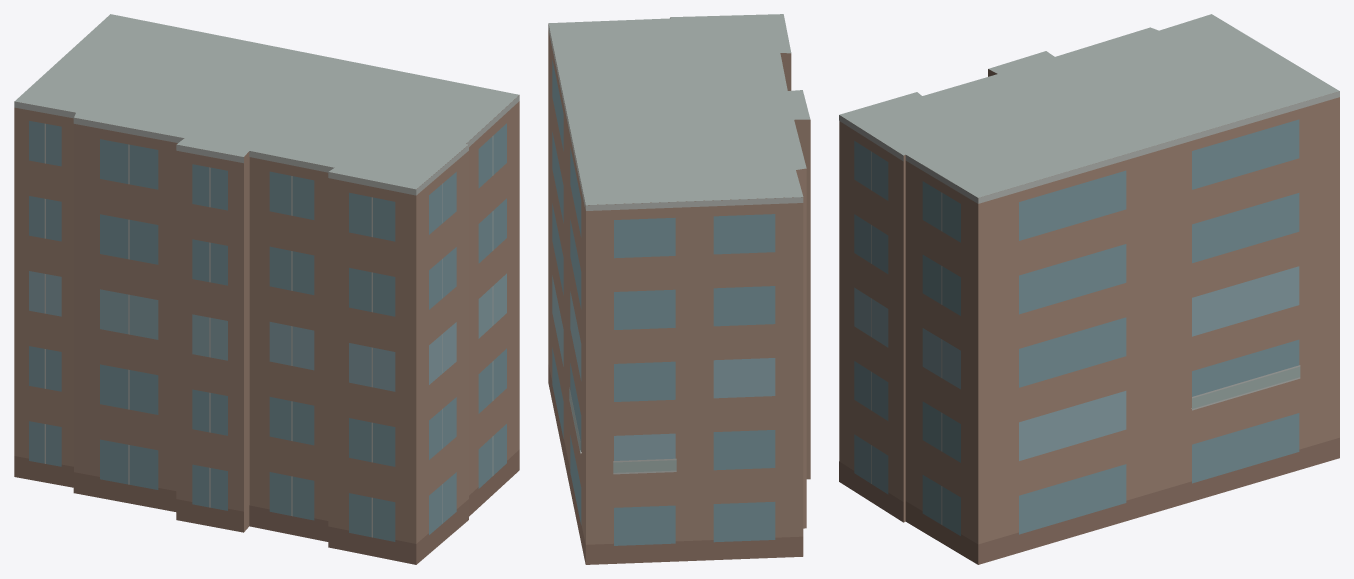
The model's file is survey-upis-32506691.glb.
The picture shows the model from 3 angles, left to right: view 1: azimuth 30°, elevation 25°; view 2: azimuth 150°, elevation 25°; view 3: azimuth 270°, elevation 25°; orthographic projection. The views are drawn at different scales.
Visible parts, largest first — view 1: survey-upis-32506691.tmp; view 2: survey-upis-32506691.tmp; view 3: survey-upis-32506691.tmp.
Part boxes in pixels (x1,y1,x2,y2): survey-upis-32506691.tmp: (14, 14, 519, 564); survey-upis-32506691.tmp: (548, 14, 810, 564); survey-upis-32506691.tmp: (839, 14, 1339, 564).
Size of the model in its own units: 16.02 by 14.9 by 18.43.
